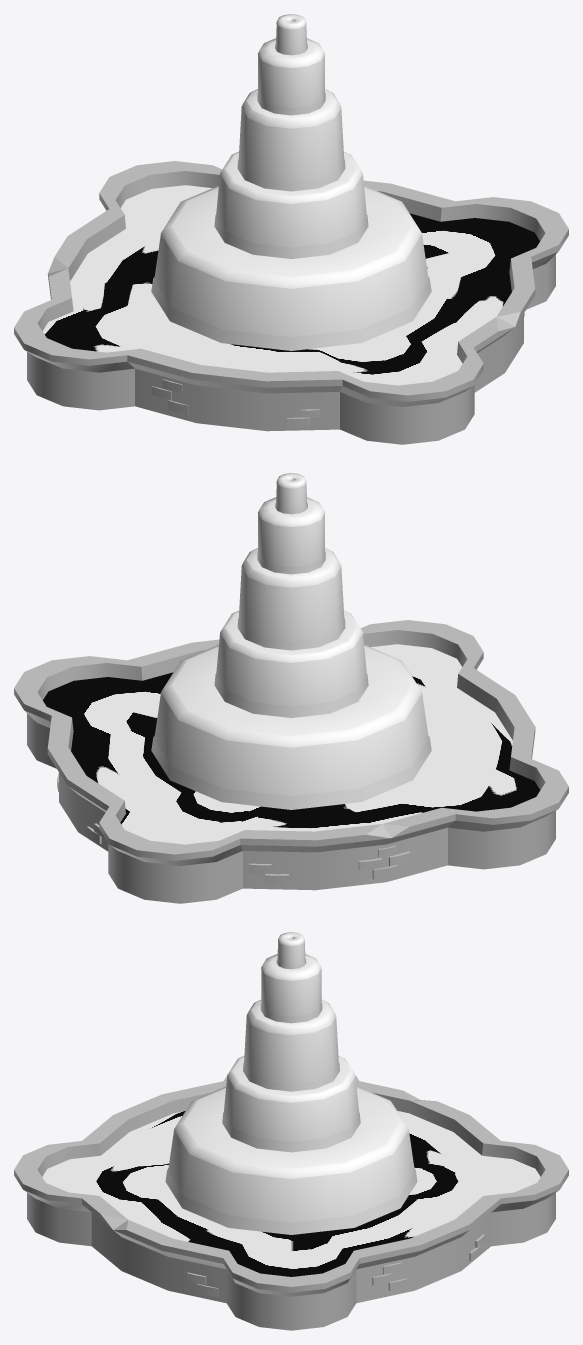
Rendered from CG_Prop_Fountain02.fbx.
3 renders of one model, top to bottom at view 1: azimuth 30°, elevation 25°; view 2: azimuth 150°, elevation 25°; view 3: azimuth 270°, elevation 25°, orthographic. The views are drawn at different scales.
Visible parts, largest first — view 1: CG_Prop_Fountain001, CG_Prop_FountainWater003, CG_Prop_FountainWater004, CG_Prop_FountainWater005, CG_Prop_FountainWater006; view 2: CG_Prop_Fountain001, CG_Prop_FountainWater003, CG_Prop_FountainWater004, CG_Prop_FountainWater005, CG_Prop_FountainWater006; view 3: CG_Prop_Fountain001, CG_Prop_FountainWater003, CG_Prop_FountainWater004, CG_Prop_FountainWater005, CG_Prop_FountainWater006.
Part boxes in pixels (box(x1,y1,x2,y2)): CG_Prop_Fountain001: box(14, 21, 568, 444); CG_Prop_FountainWater003: box(154, 15, 428, 337); CG_Prop_FountainWater004: box(42, 185, 539, 385); CG_Prop_FountainWater005: box(160, 14, 421, 288); CG_Prop_FountainWater006: box(151, 44, 431, 350); CG_Prop_Fountain001: box(14, 480, 568, 903); CG_Prop_FountainWater003: box(154, 474, 428, 796); CG_Prop_FountainWater004: box(43, 644, 540, 844); CG_Prop_FountainWater005: box(161, 473, 422, 747); CG_Prop_FountainWater006: box(151, 503, 431, 809); CG_Prop_Fountain001: box(14, 938, 568, 1330); CG_Prop_FountainWater003: box(168, 933, 414, 1222); CG_Prop_FountainWater004: box(42, 1111, 540, 1276); CG_Prop_FountainWater005: box(174, 932, 408, 1178); CG_Prop_FountainWater006: box(165, 959, 417, 1234).
Size of the model in its own units: 487 by 487 by 273.
